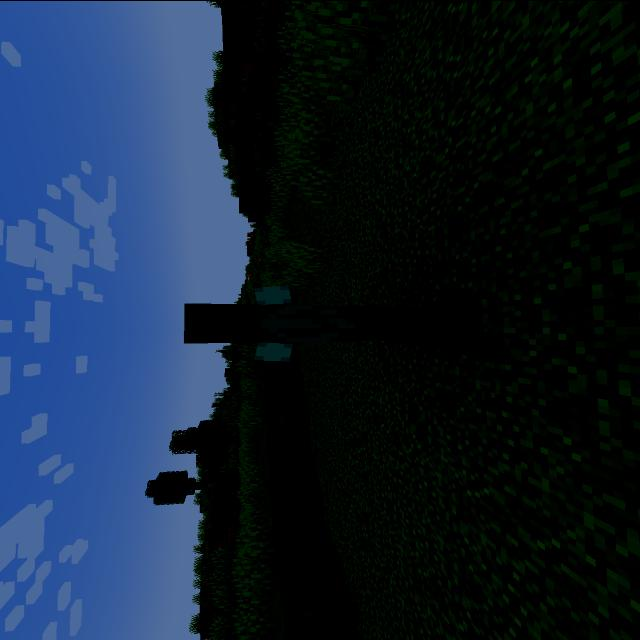Zombie: (164, 280, 484, 370)
